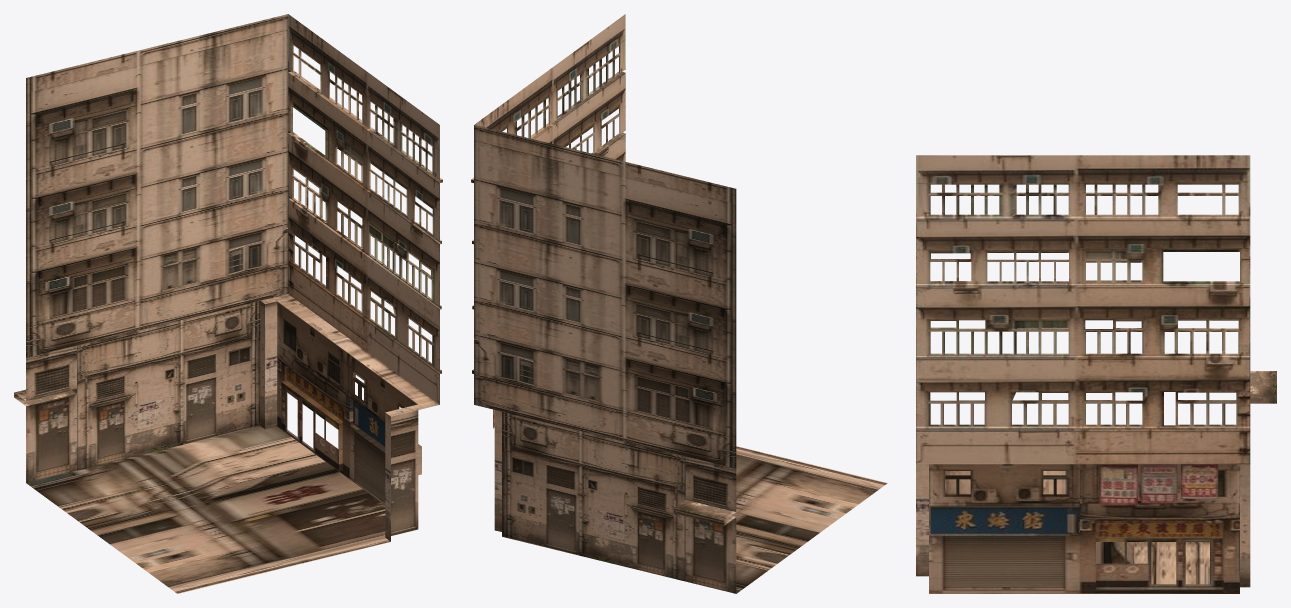
File: bhk1.glb
The picture shows the model from 3 angles, left to right: view 1: azimuth 30°, elevation 25°; view 2: azimuth 150°, elevation 25°; view 3: azimuth 270°, elevation 25°; orthographic projection. The views are drawn at different scales.
Visible parts, largest first — view 1: Object_352; view 2: Object_352; view 3: Object_352.
Part boxes in pixels (x1,y1,x2,y2): Object_352: (14, 14, 442, 593); Object_352: (471, 14, 887, 593); Object_352: (916, 155, 1276, 593).
Bounding box in the file's own units: 2.29 × 3.34 × 2.44.
1 material, 1 textured.
